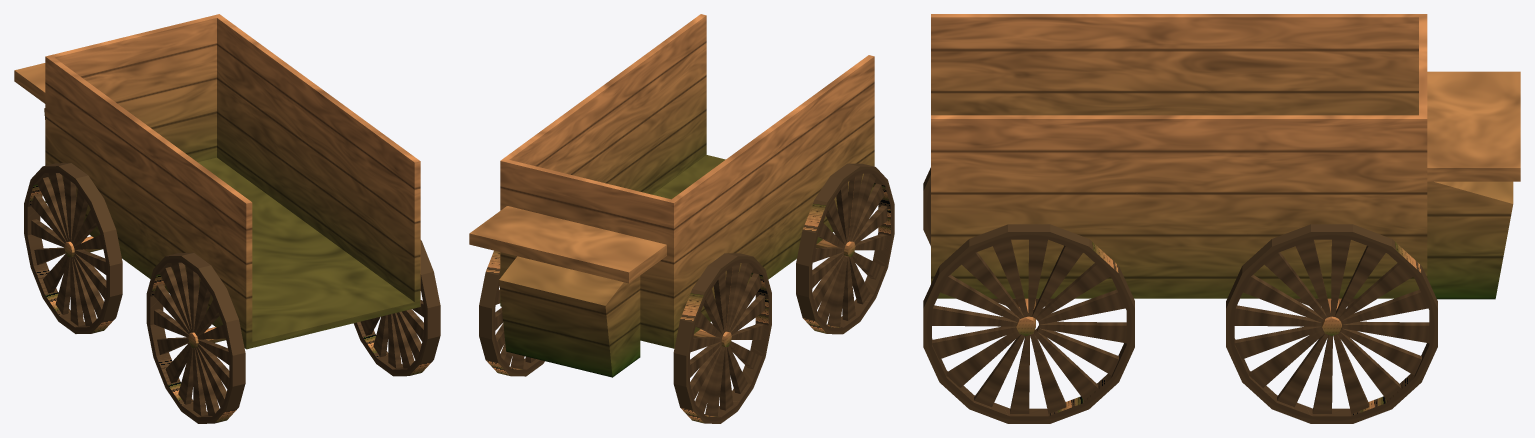
File: Cart.glb
3 renders of one model, left to right at view 1: azimuth 30°, elevation 25°; view 2: azimuth 150°, elevation 25°; view 3: azimuth 270°, elevation 25°, orthographic. The views are drawn at different scales.
Visible parts, largest first — view 1: CAISSE_CHARIOT-col, ROUES_CHARIOT_3-col, ROUES_CHARIOT_4-col, ROUES_CHARIOT_1-col; view 2: CAISSE_CHARIOT-col, ROUES_CHARIOT_3-col, ROUES_CHARIOT_4-col, ROUES_CHARIOT_2-col; view 3: CAISSE_CHARIOT-col, ROUES_CHARIOT_2-col, ROUES_CHARIOT_1-col, ROUES_CHARIOT_3-col.
Part boxes in pixels (bbox=[...]): CAISSE_CHARIOT-col: bbox=[14, 14, 420, 349]; ROUES_CHARIOT_3-col: bbox=[146, 252, 245, 423]; ROUES_CHARIOT_4-col: bbox=[24, 163, 122, 333]; ROUES_CHARIOT_1-col: bbox=[353, 240, 440, 376]; CAISSE_CHARIOT-col: bbox=[469, 14, 874, 377]; ROUES_CHARIOT_3-col: bbox=[796, 163, 894, 334]; ROUES_CHARIOT_4-col: bbox=[673, 253, 771, 423]; ROUES_CHARIOT_2-col: bbox=[479, 250, 544, 376]; CAISSE_CHARIOT-col: bbox=[931, 14, 1520, 299]; ROUES_CHARIOT_2-col: bbox=[1226, 224, 1437, 423]; ROUES_CHARIOT_1-col: bbox=[923, 224, 1134, 423]; ROUES_CHARIOT_3-col: bbox=[923, 167, 1053, 306].
Size of the model in its own units: 1.79 by 1.97 by 3.61.
Materials: 1 (1 with a texture image).
